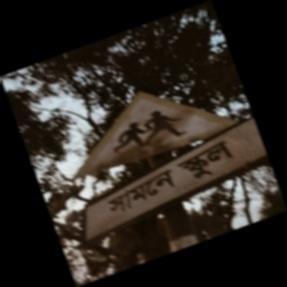School-in-front: (75, 91, 267, 245)
